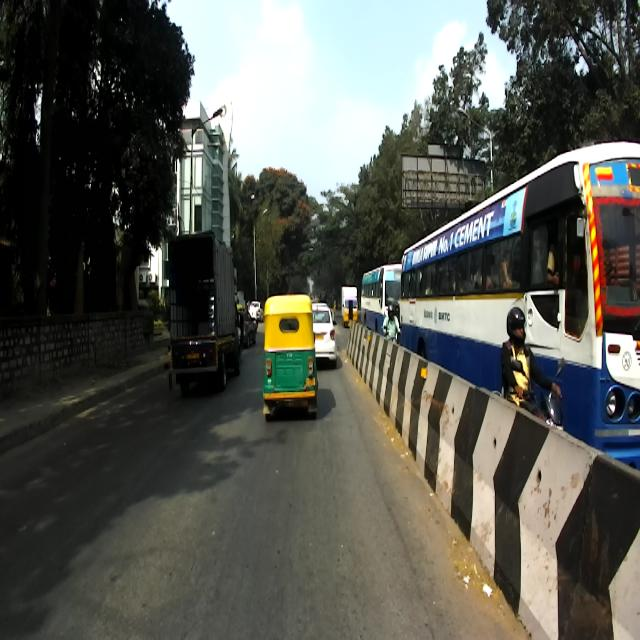auto ahead at: (262, 299, 316, 413)
truck ahead at: (173, 235, 244, 388)
